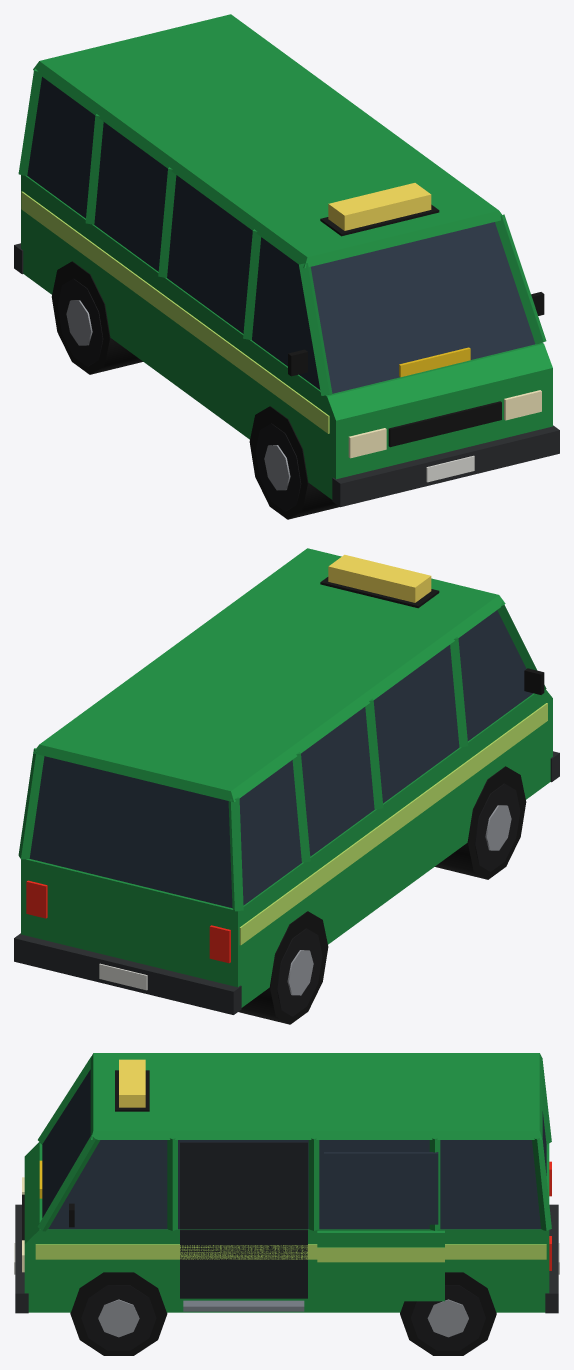
File: angkot.glb
3 renders of one model, top to bottom at view 1: azimuth 30°, elevation 25°; view 2: azimuth 150°, elevation 25°; view 3: azimuth 270°, elevation 25°, orthographic. The views are drawn at different scales.
Visible parts, largest first — view 1: body, wheel_fr, wheel_rr; view 2: body, wheel_fr, wheel_rr; view 3: body, wheel_fl, wheel_rl.
Boxes of the visible parts, <box> form: body: <box>14,14,559,519</box>; wheel_fr: <box>255,423,301,511</box>; wheel_rr: <box>57,278,103,366</box>; body: <box>14,548,559,1024</box>; wheel_fr: <box>474,783,520,871</box>; wheel_rr: <box>276,928,322,1016</box>; body: <box>14,1053,559,1355</box>; wheel_fl: <box>81,1285,156,1350</box>; wheel_rl: <box>411,1285,485,1350</box>.
Size of the model in its own units: 1.81 by 1.92 by 4.06.
Materials: 1 (1 with a texture image).
